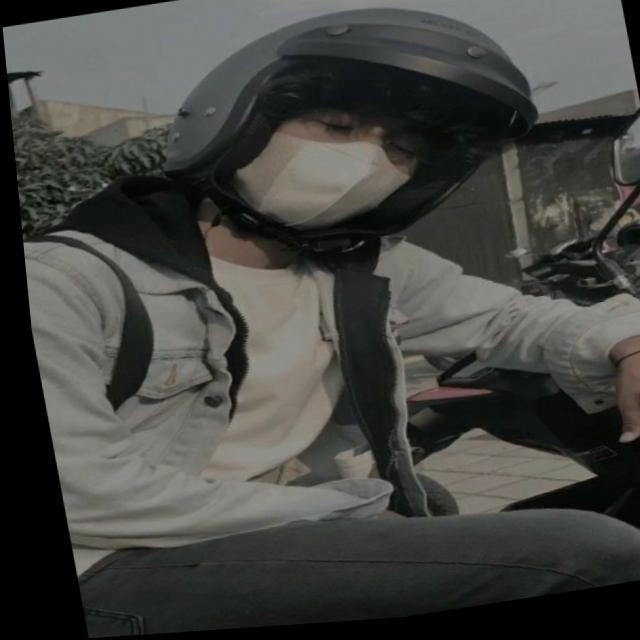Helmet: (152, 5, 544, 262)
